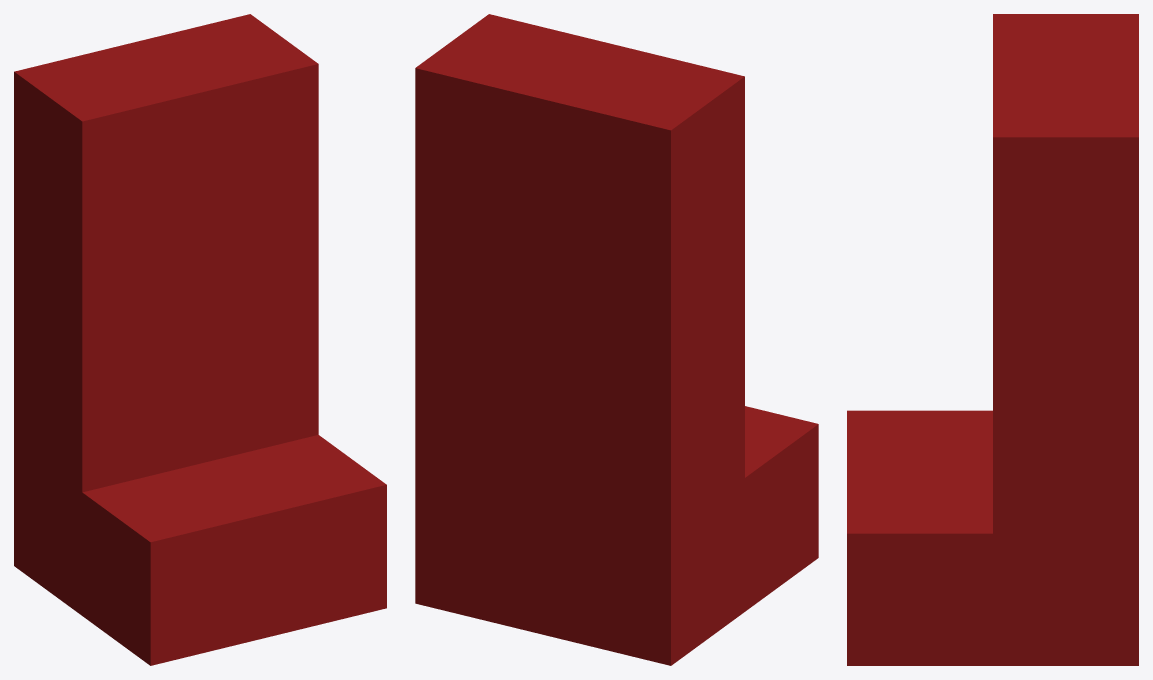
Rendered from spigot handle.obj.
The picture shows the model from 3 angles, left to right: view 1: azimuth 30°, elevation 25°; view 2: azimuth 150°, elevation 25°; view 3: azimuth 270°, elevation 25°; orthographic projection. The views are drawn at different scales.
Bounding box in the file's own units: 2 × 4 × 2.
Materials: 1 (1 with a texture image).
